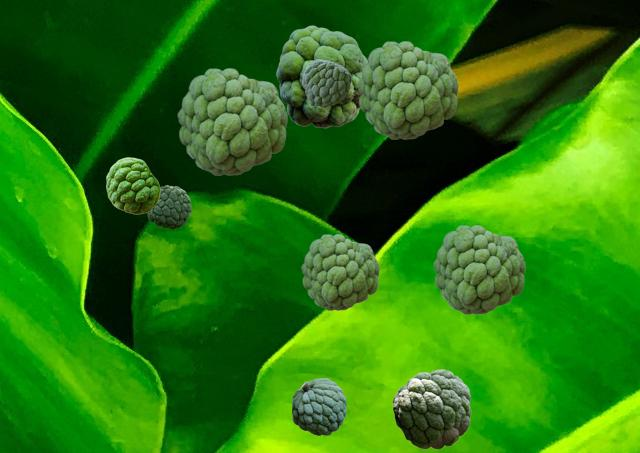atis: (177, 68, 286, 174), (357, 41, 457, 138), (276, 25, 366, 127), (433, 225, 524, 313), (392, 369, 470, 448), (301, 234, 378, 309), (292, 378, 345, 434), (106, 157, 159, 213), (302, 59, 350, 106), (146, 185, 190, 228)
